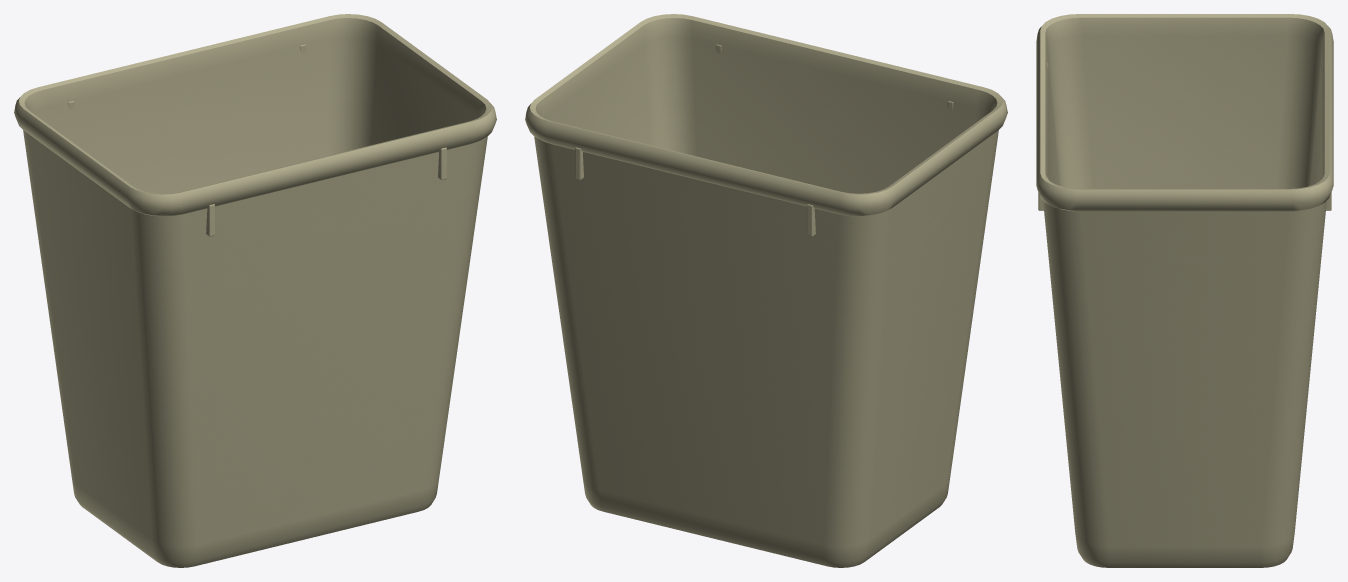
Rendered from mu01_wastebasket_small_lod0.glb.
3 views of the same model, side by side, from view 1: azimuth 30°, elevation 25°; view 2: azimuth 150°, elevation 25°; view 3: azimuth 270°, elevation 25° (orthographic).
Parts seen in each view (by area): view 1: bin_continuous_shell_rolled_rim; view 2: bin_continuous_shell_rolled_rim; view 3: bin_continuous_shell_rolled_rim.
Part boxes in pixels (box(x1,y1,x2,y2)): bin_continuous_shell_rolled_rim: box(14, 14, 496, 567); bin_continuous_shell_rolled_rim: box(525, 14, 1007, 567); bin_continuous_shell_rolled_rim: box(1036, 14, 1333, 567).
Bounding box in the file's own units: 0.2984 × 0.3112 × 0.2096.
1 material, 1 textured.
